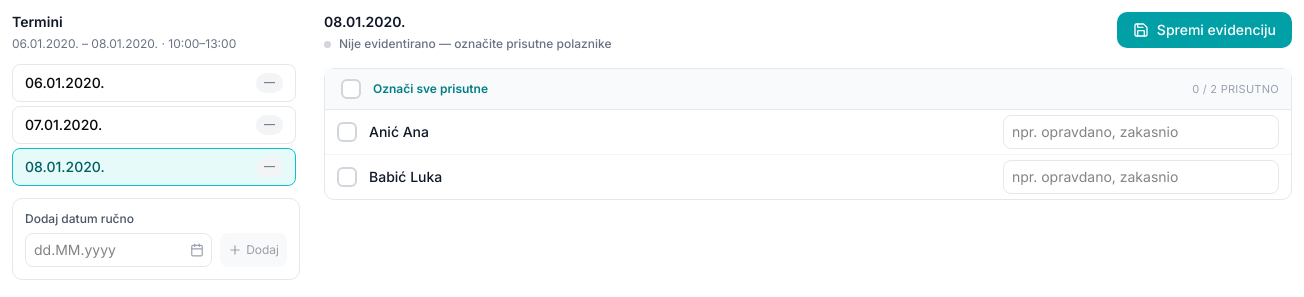
Test case: AttendanceMarker — mark all › announces unsaved changes as soon as a box is ticked
Click the checkbox labelled "Anić Ana" at (399,132), box [325, 110, 1003, 154]
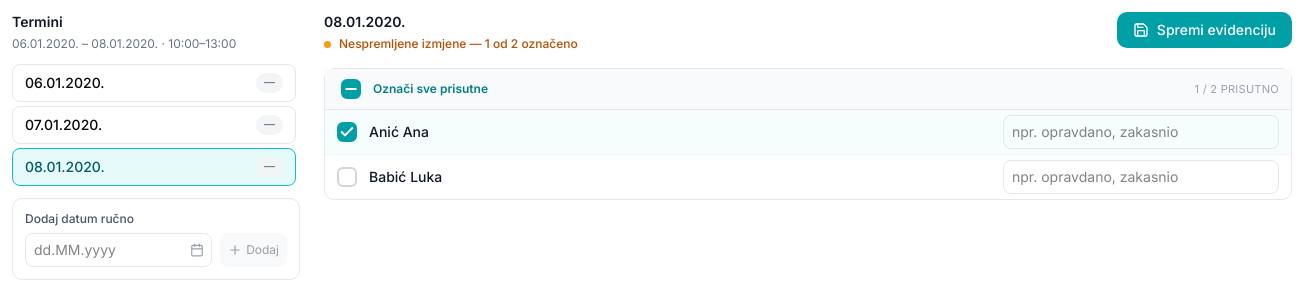
Result: the text "Nespremljene izmjene — 1 od 2 označeno" is shown at [324, 36, 578, 52]
